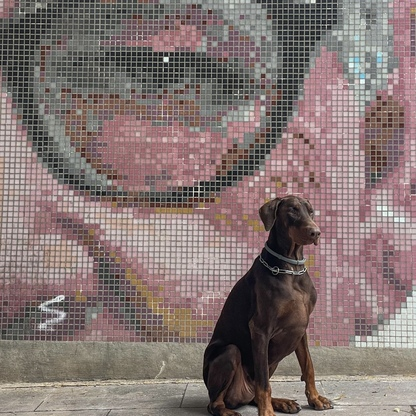doberman: (201, 195, 338, 416)
